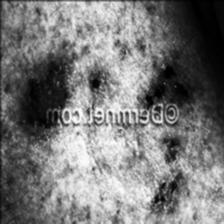Potentially Malignant Skin Tumors: (28, 64, 103, 104), (137, 62, 200, 106), (149, 136, 182, 208)
